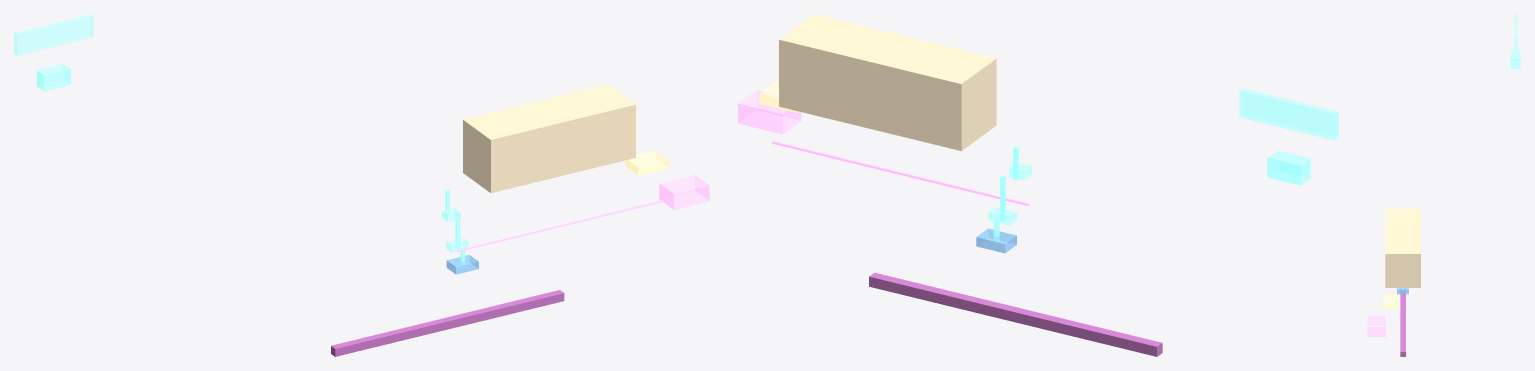
File: secret-tunnel.gltf
3 views of the same model, side by side, from view 1: azimuth 30°, elevation 25°; view 2: azimuth 150°, elevation 25°; view 3: azimuth 270°, elevation 25° (orthographic). The views are drawn at different scales.
Visible parts, largest first — view 1: SphinxBody_Shape, Shape@/Root/SecretTunnel/Shape[1], KhufuBigVoid_Shape, HallOfRecords_Shape, KhufuKingsChamber_Shape, SphinxPawVoid_Shape, UndergroundLink_Shape; view 2: SphinxBody_Shape, Shape@/Root/SecretTunnel/Shape[1], KhufuBigVoid_Shape, HallOfRecords_Shape, KhufuKingsChamber_Shape, UndergroundLink_Shape, OsirisLevel3Water_Shape; view 3: SphinxBody_Shape, HallOfRecords_Shape, Shape@/Root/SecretTunnel/Shape[1], SphinxPawVoid_Shape, KhufuKingsChamber_Shape, KhufuBigVoid_Shape.
Part boxes in pixels (<box>): SphinxBody_Shape: <box>463,84,635,192</box>; Shape@/Root/SecretTunnel/Shape[1]: <box>331,290,564,356</box>; KhufuBigVoid_Shape: <box>14,14,93,55</box>; HallOfRecords_Shape: <box>659,175,709,209</box>; KhufuKingsChamber_Shape: <box>36,63,70,91</box>; SphinxPawVoid_Shape: <box>625,151,669,175</box>; UndergroundLink_Shape: <box>457,200,661,251</box>; SphinxBody_Shape: <box>779,14,996,150</box>; Shape@/Root/SecretTunnel/Shape[1]: <box>869,272,1162,356</box>; KhufuBigVoid_Shape: <box>1239,88,1338,140</box>; HallOfRecords_Shape: <box>738,90,801,134</box>; KhufuKingsChamber_Shape: <box>1267,150,1310,185</box>; UndergroundLink_Shape: <box>772,141,1029,205</box>; OsirisLevel3Water_Shape: <box>976,228,1016,253</box>; SphinxBody_Shape: <box>1385,208,1420,287</box>; HallOfRecords_Shape: <box>1367,316,1385,337</box>; Shape@/Root/SecretTunnel/Shape[1]: <box>1400,288,1405,356</box>; SphinxPawVoid_Shape: <box>1383,294,1400,308</box>; KhufuKingsChamber_Shape: <box>1510,50,1520,69</box>; KhufuBigVoid_Shape: <box>1514,14,1517,51</box>.
Size of the model in its own units: 227 by 118 by 81.62.
